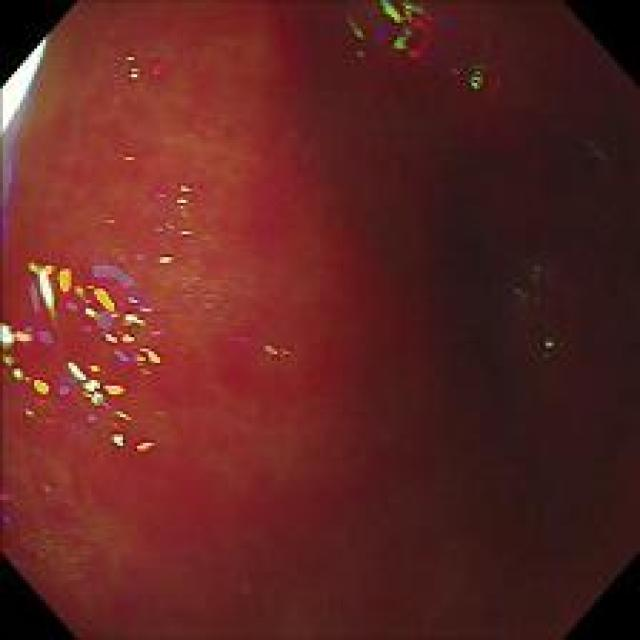bubbles: (195, 288, 235, 330), (18, 526, 52, 565), (66, 552, 81, 579), (235, 330, 249, 348)
color misalignment: (1, 0, 639, 639), (18, 254, 172, 458), (370, 5, 439, 64), (0, 100, 29, 214), (156, 172, 201, 242), (506, 258, 564, 310), (460, 60, 505, 112), (119, 45, 162, 84), (346, 15, 369, 55), (259, 338, 292, 364), (2, 314, 16, 374), (536, 330, 558, 359), (118, 146, 140, 164)
contrast: (340, 1, 634, 635)
specularity: (0, 36, 52, 128)
